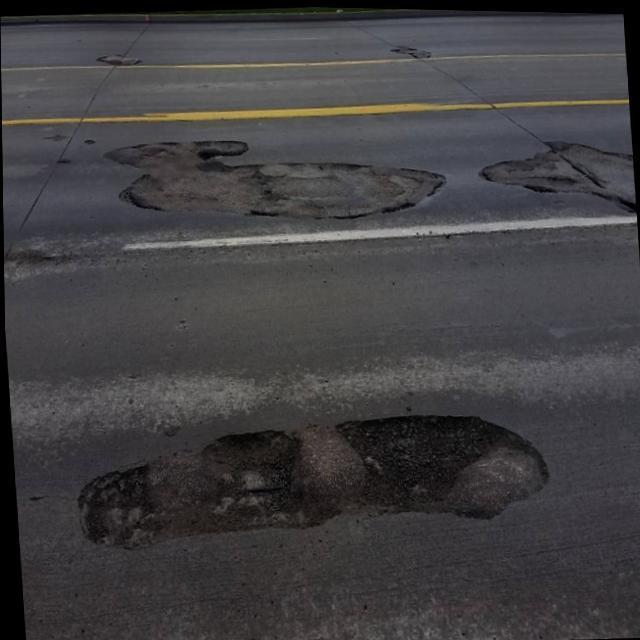Pothole: (76, 412, 548, 546), (114, 137, 441, 219), (484, 140, 636, 210)
